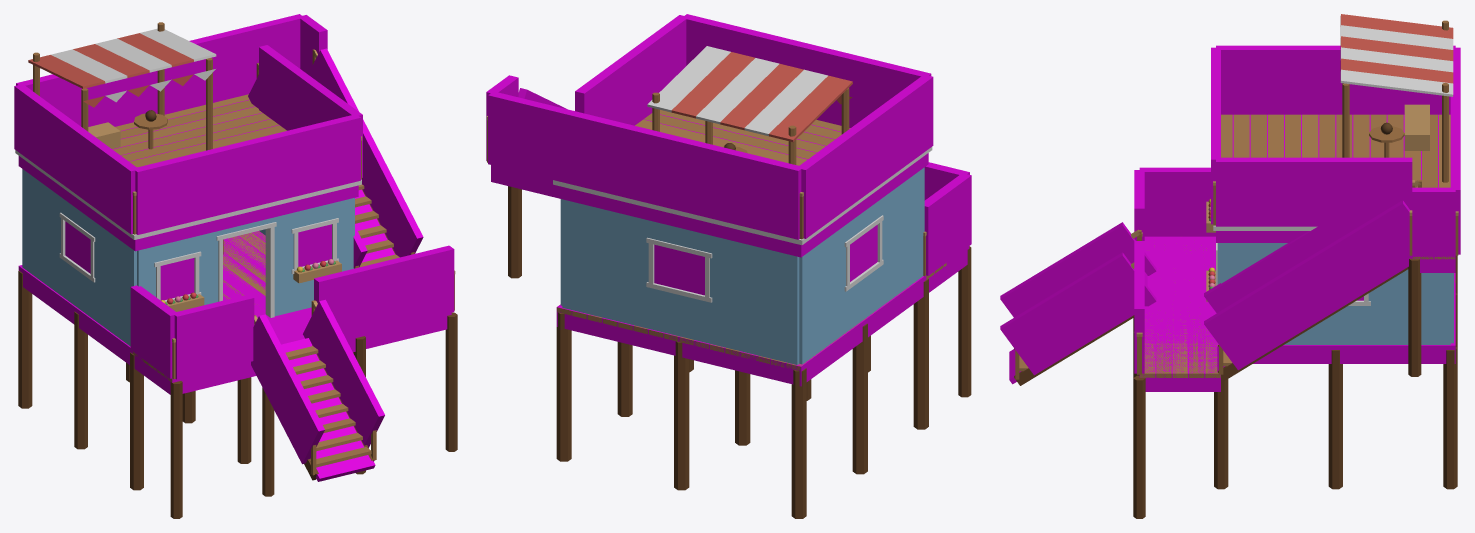
File: stilt_house_a-DmdcpK8y.glb
3 renders of one model, left to right at view 1: azimuth 30°, elevation 25°; view 2: azimuth 150°, elevation 25°; view 3: azimuth 270°, elevation 25°, orthographic. The views are drawn at different scales.
Visible parts, largest first — view 1: COLP_stilt_house_a, stilt_house_a, COL_stilt_house_a; view 2: stilt_house_a, COLP_stilt_house_a, COL_stilt_house_a; view 3: COLP_stilt_house_a, stilt_house_a, COL_stilt_house_a.
Part boxes in pixels (x1,y1,x2,y2): COLP_stilt_house_a: (14, 14, 454, 464); stilt_house_a: (15, 22, 457, 518); COL_stilt_house_a: (18, 99, 451, 481); stilt_house_a: (486, 46, 971, 518); COLP_stilt_house_a: (486, 14, 971, 275); COL_stilt_house_a: (491, 114, 969, 386); COLP_stilt_house_a: (1000, 45, 1460, 375); stilt_house_a: (1014, 14, 1458, 518); COL_stilt_house_a: (1009, 114, 1455, 391).
Size of the model in its own units: 6.8 by 7.94 by 9.03.
